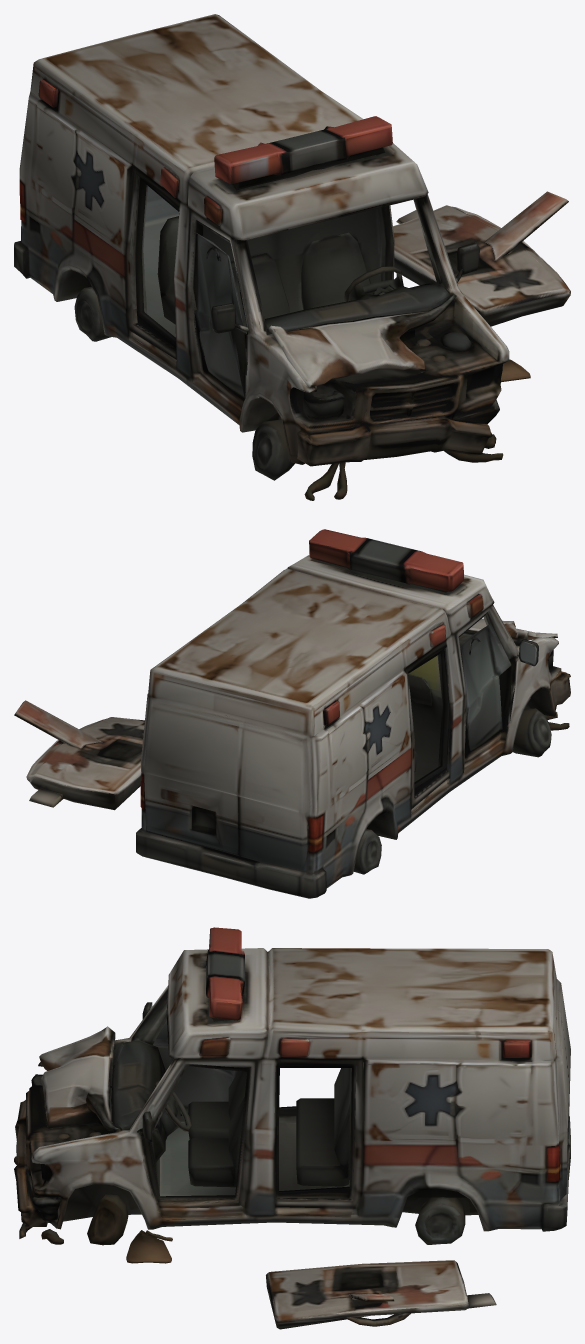
The model's file is SM_Vehicle_DamagedAmbulance_01.fbx.
3 renders of one model, top to bottom at view 1: azimuth 30°, elevation 25°; view 2: azimuth 150°, elevation 25°; view 3: azimuth 270°, elevation 25°, orthographic. The views are drawn at different scales.
Parts seen in each view (by area): view 1: SM_Vehicle_DamagedAmbulance_01; view 2: SM_Vehicle_DamagedAmbulance_01; view 3: SM_Vehicle_DamagedAmbulance_01.
Part boxes in pixels (x1=…): SM_Vehicle_DamagedAmbulance_01: x1=14, y1=14, x2=570, y2=500; SM_Vehicle_DamagedAmbulance_01: x1=14, y1=529, x2=570, y2=898; SM_Vehicle_DamagedAmbulance_01: x1=14, y1=927, x2=570, y2=1329.
Size of the model in its own units: 0.9004 by 0.4707 by 0.998.
Materials: 1 (1 with a texture image).
